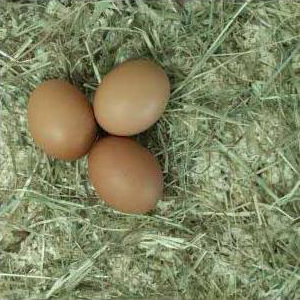egg: (27, 78, 97, 162), (94, 60, 171, 136), (87, 136, 164, 212)
